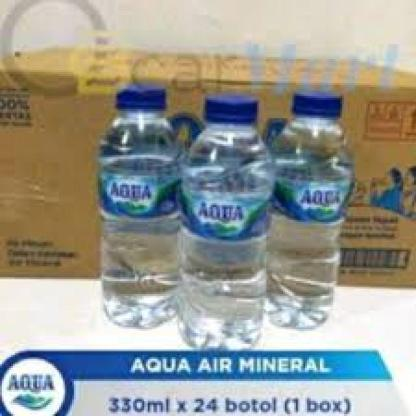Plastic Bottle: (177, 92, 273, 348), (266, 89, 354, 329), (96, 84, 182, 328)
